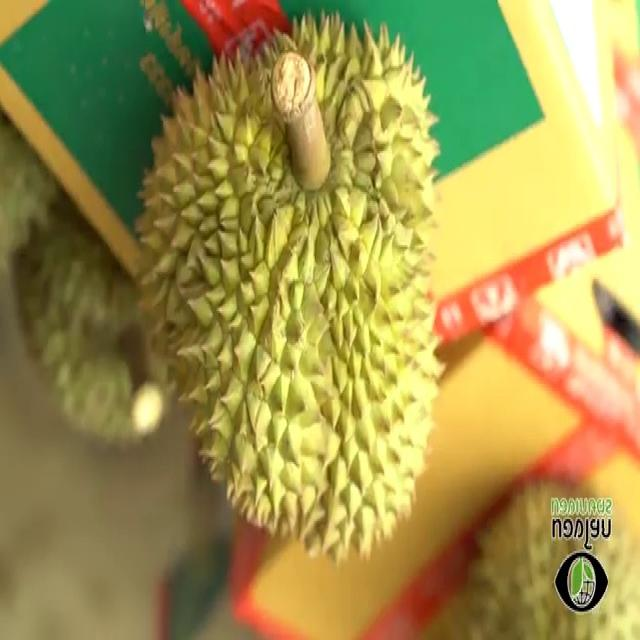durian: (123, 8, 453, 582)
